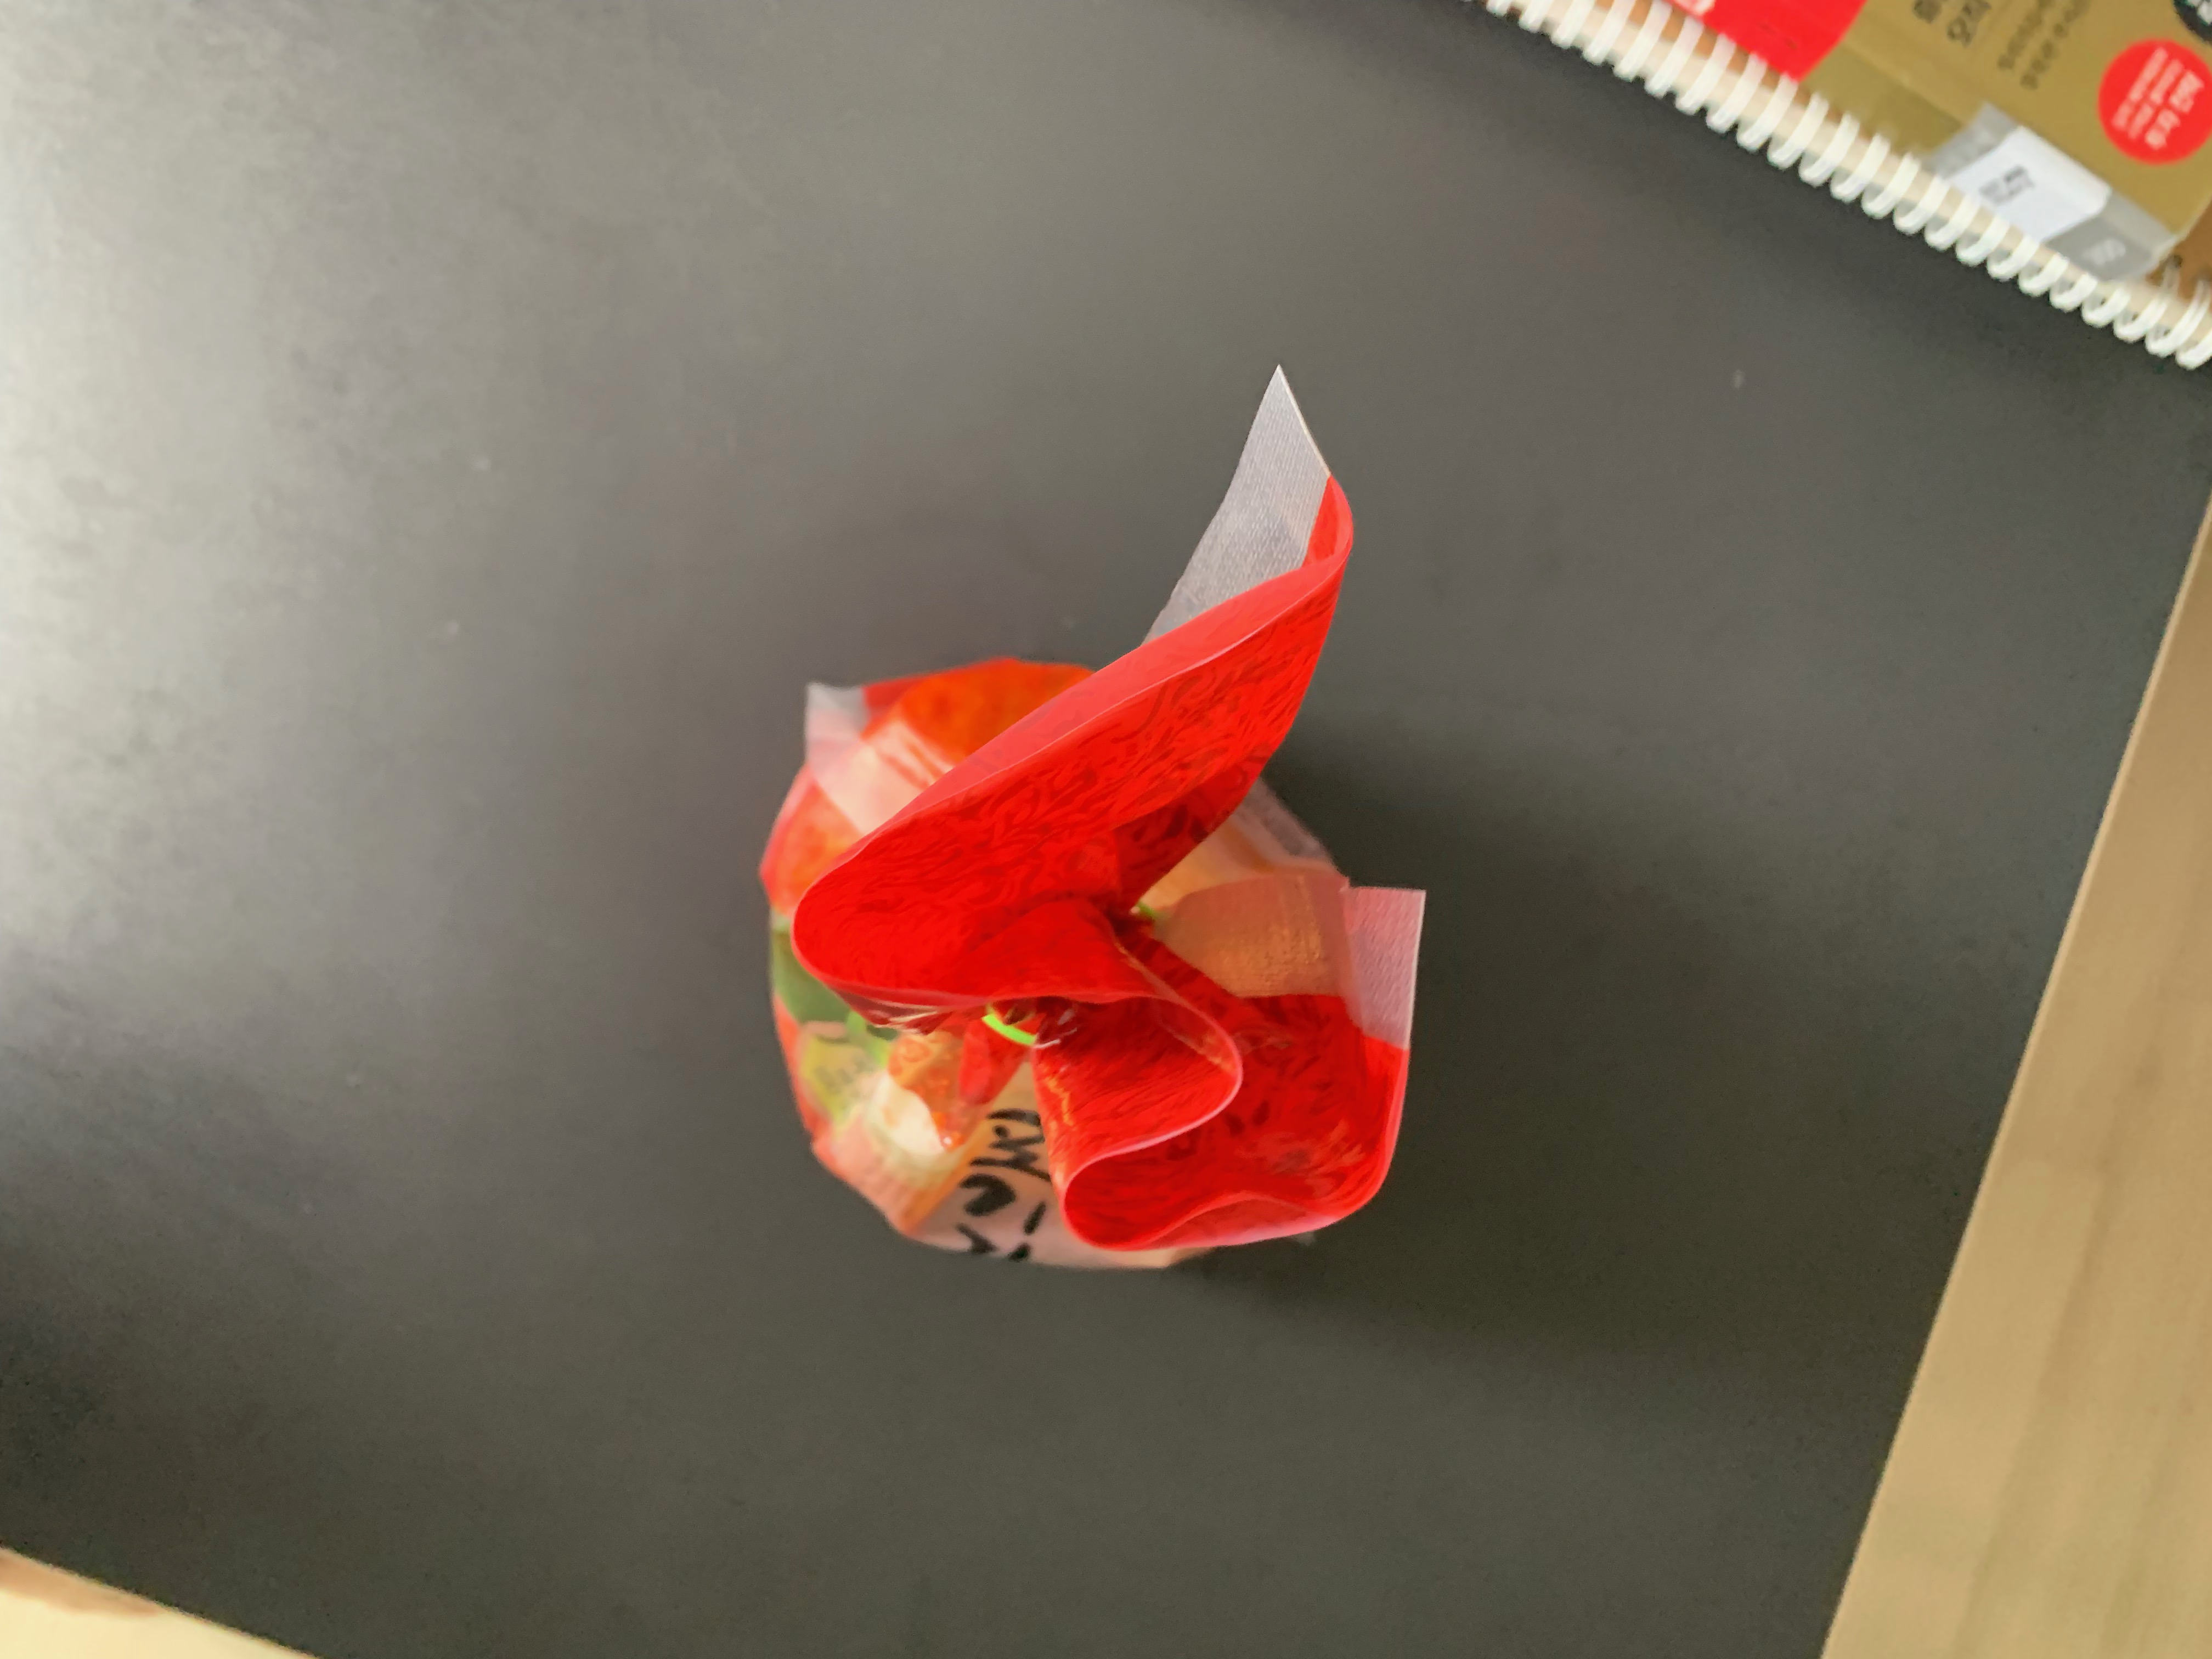kimchi: (759, 516, 1411, 1263)
